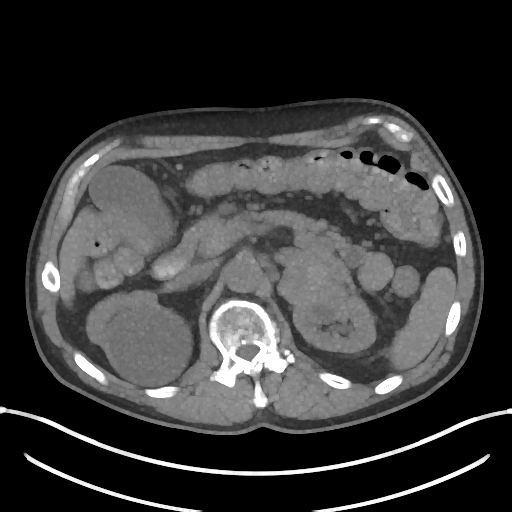Lesion: (105, 304, 195, 392)
